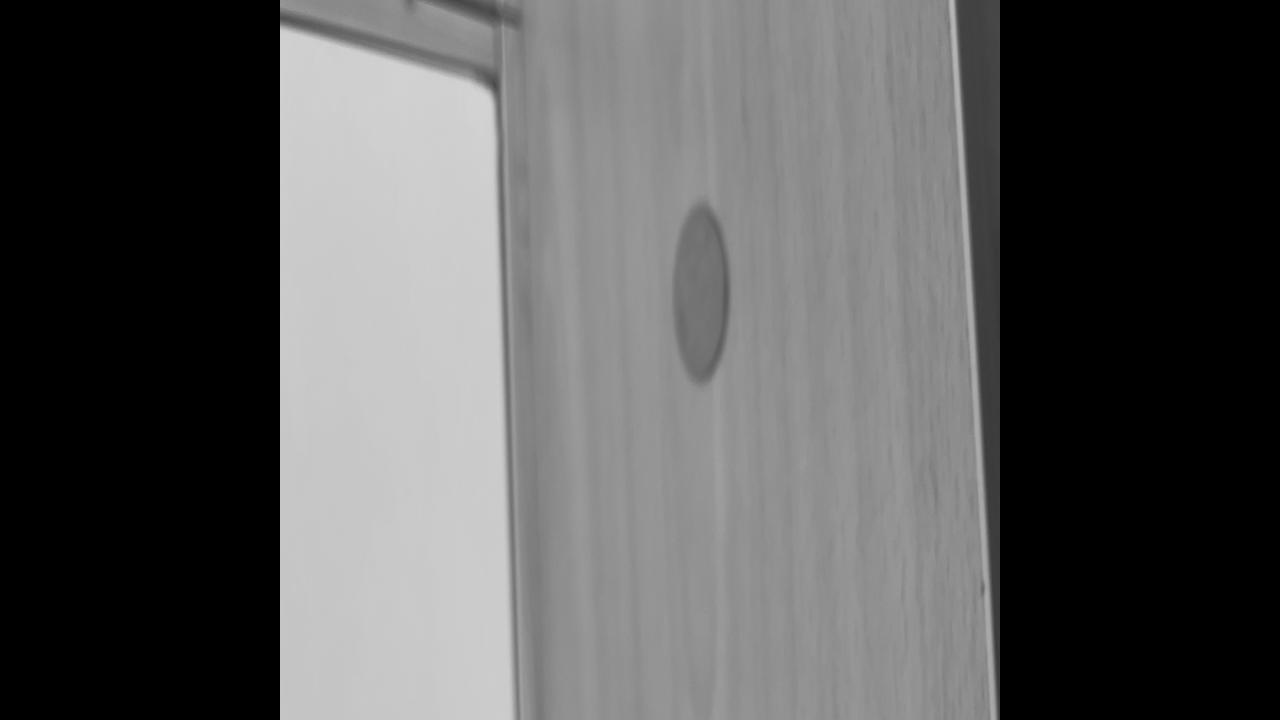coin: (670, 198, 730, 388)
